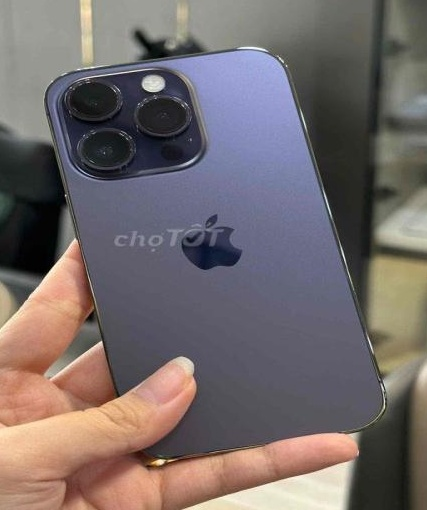scratch: (72, 120, 140, 178)
